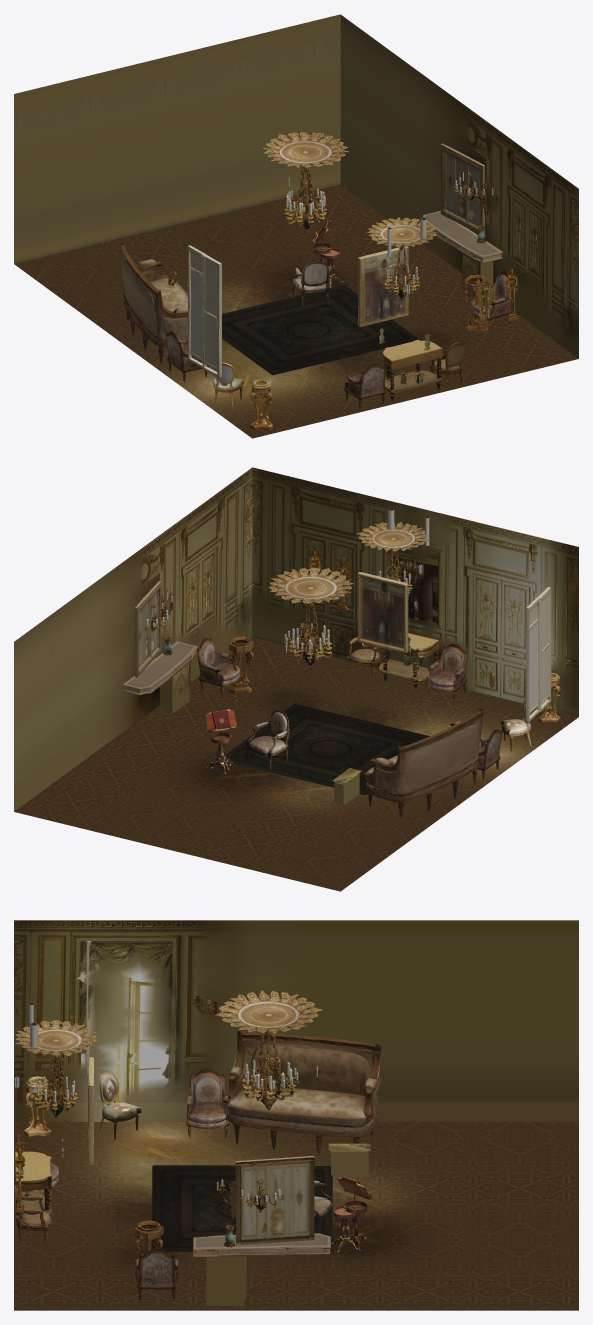
File: scene_lite.glb
The picture shows the model from 3 angles, top to bottom: view 1: azimuth 30°, elevation 25°; view 2: azimuth 150°, elevation 25°; view 3: azimuth 270°, elevation 25°; orthographic projection. The views are drawn at different scales.
Parts seen in each view (by area): view 1: room_wall_z_min, room_floor, room_wall_x_max, 039_rug, 041_sofa, 034_curtains, 028_chandelier, 036_mirror, 037_mirror, 029_chandelier, 031_console_table, 035_fireplace_mantel (+9 smaller); view 2: room_floor, room_wall_z_max, room_wall_x_max, 039_rug, 041_sofa, 036_mirror, 028_chandelier, 034_curtains, 029_chandelier, 037_mirror, 035_fireplace_mantel, 031_console_table (+11 smaller); view 3: room_wall_x_min, room_floor, 041_sofa, 039_rug, 037_mirror, 028_chandelier, 029_chandelier, 006_armchair, 035_fireplace_mantel, room_builtin_00_body, 031_console_table, 002_armchair (+10 smaller).
Part boxes in pixels (box(x1,y1,x2,y2)): room_wall_z_min: box(14, 14, 340, 263); room_floor: box(14, 184, 578, 438); room_wall_x_max: box(340, 15, 578, 358); 039_rug: box(222, 285, 419, 375); 041_sofa: box(120, 241, 187, 363); 034_curtains: box(187, 245, 221, 377); 028_chandelier: box(262, 132, 348, 232); 036_mirror: box(358, 246, 408, 326); 037_mirror: box(440, 143, 484, 233); 029_chandelier: box(366, 217, 437, 300); 031_console_table: box(382, 339, 442, 402); 035_fireplace_mantel: box(422, 210, 502, 263); room_floor: box(14, 637, 578, 891); room_wall_z_max: box(252, 467, 578, 716); room_wall_x_max: box(14, 468, 252, 811); 039_rug: box(225, 704, 429, 794); 041_sofa: box(363, 707, 483, 819); 036_mirror: box(357, 572, 408, 653); 028_chandelier: box(268, 567, 353, 668); 034_curtains: box(526, 587, 551, 722); 029_chandelier: box(356, 521, 430, 597); 037_mirror: box(135, 581, 161, 677); 035_fireplace_mantel: box(122, 641, 197, 695); 031_console_table: box(378, 633, 438, 689); room_wall_x_min: box(14, 920, 578, 1121); room_floor: box(14, 1122, 578, 1310); 041_sofa: box(222, 1030, 381, 1155); 039_rug: box(152, 1165, 332, 1251); 037_mirror: box(235, 1156, 314, 1244); 028_chandelier: box(215, 990, 322, 1110); 029_chandelier: box(15, 1020, 96, 1118); 006_armchair: box(185, 1068, 229, 1137); 035_fireplace_mantel: box(193, 1233, 330, 1257); room_builtin_00_body: box(206, 1256, 244, 1305); 031_console_table: box(14, 1151, 52, 1228); 002_armchair: box(135, 1248, 178, 1300).
Bounding box in the file's own units: 2.26 × 1.08 × 2.71.
Materials: 47 (47 with a texture image).
